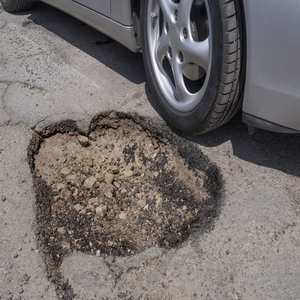pothole: (27, 107, 228, 259)
